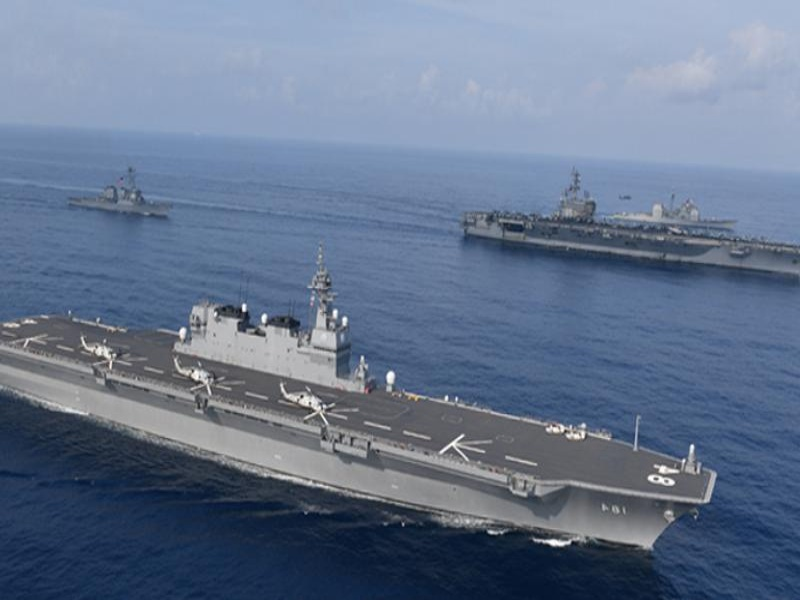carrier: (12, 284, 716, 550), (465, 176, 795, 278)
cruise: (64, 170, 175, 218)
